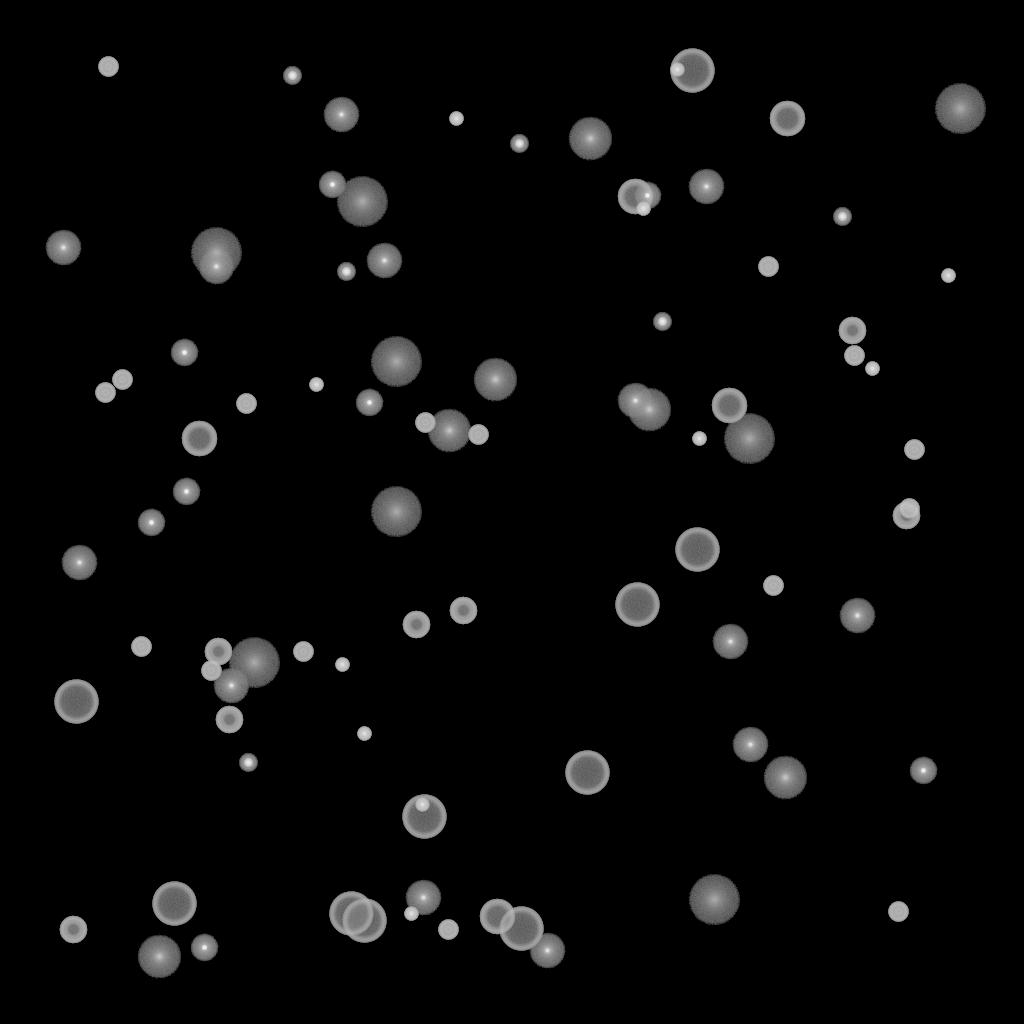depth:-10: (172, 478, 200, 506), (355, 389, 383, 417), (318, 171, 346, 199), (633, 182, 661, 210), (190, 934, 218, 962), (137, 509, 165, 537), (170, 339, 198, 367), (909, 757, 937, 785)
depth:-20: (833, 208, 851, 226), (283, 67, 301, 85), (510, 135, 528, 153), (653, 313, 671, 331), (239, 754, 257, 772), (337, 263, 355, 281)
depth:-30: (309, 378, 323, 392), (941, 269, 955, 283), (692, 432, 706, 446), (415, 798, 429, 812), (636, 202, 650, 216), (449, 112, 463, 126), (404, 907, 418, 921), (670, 63, 684, 77), (865, 362, 879, 376), (335, 658, 349, 672), (357, 727, 371, 741)
depth:-40: (763, 576, 783, 596), (899, 499, 919, 519), (888, 902, 908, 922), (112, 370, 132, 390), (468, 425, 488, 445), (98, 57, 118, 77), (904, 440, 924, 460), (438, 920, 458, 940), (415, 413, 435, 433), (131, 637, 151, 657), (758, 257, 778, 277), (236, 394, 256, 414), (293, 642, 313, 662), (201, 661, 221, 681), (95, 383, 115, 403), (844, 346, 864, 366)
depth:-50: (892, 502, 920, 530), (59, 916, 87, 944), (838, 317, 866, 345), (204, 638, 232, 666), (402, 611, 430, 639), (215, 706, 243, 734), (449, 597, 477, 625)
depth:-60: (711, 388, 747, 424), (617, 179, 653, 215), (479, 899, 515, 935), (769, 101, 805, 137), (181, 421, 217, 457)
depth:-70: (329, 892, 373, 936), (402, 795, 446, 839), (152, 882, 196, 926), (565, 751, 609, 795), (54, 680, 98, 724), (670, 49, 714, 93), (675, 528, 719, 572), (342, 899, 386, 943), (499, 907, 543, 951), (615, 583, 659, 627)
depth:0: (712, 624, 748, 660), (688, 169, 724, 205), (45, 230, 81, 266), (405, 880, 441, 916), (366, 243, 402, 279), (839, 598, 875, 634), (617, 383, 653, 419), (323, 97, 359, 133), (61, 545, 97, 581), (213, 668, 249, 704), (198, 249, 234, 285), (529, 933, 565, 969), (732, 727, 768, 763)
depth:10: (137, 935, 181, 979), (473, 358, 517, 402), (427, 409, 471, 453), (627, 388, 671, 432), (763, 756, 807, 800), (568, 117, 612, 161)
depth:20: (934, 84, 986, 134), (370, 337, 422, 387), (190, 228, 242, 278), (370, 487, 422, 537), (723, 414, 775, 464), (688, 875, 740, 925), (228, 638, 280, 688), (336, 177, 388, 227)
